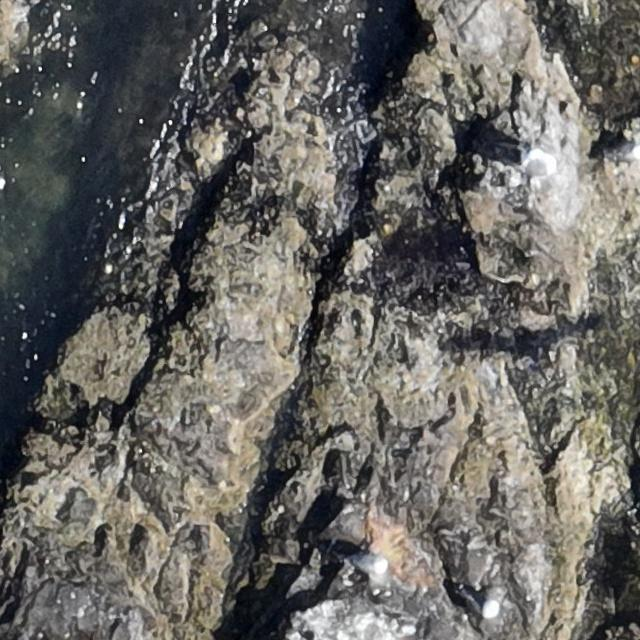umineko: (459, 578, 498, 619), (513, 153, 556, 180), (351, 553, 390, 576)
